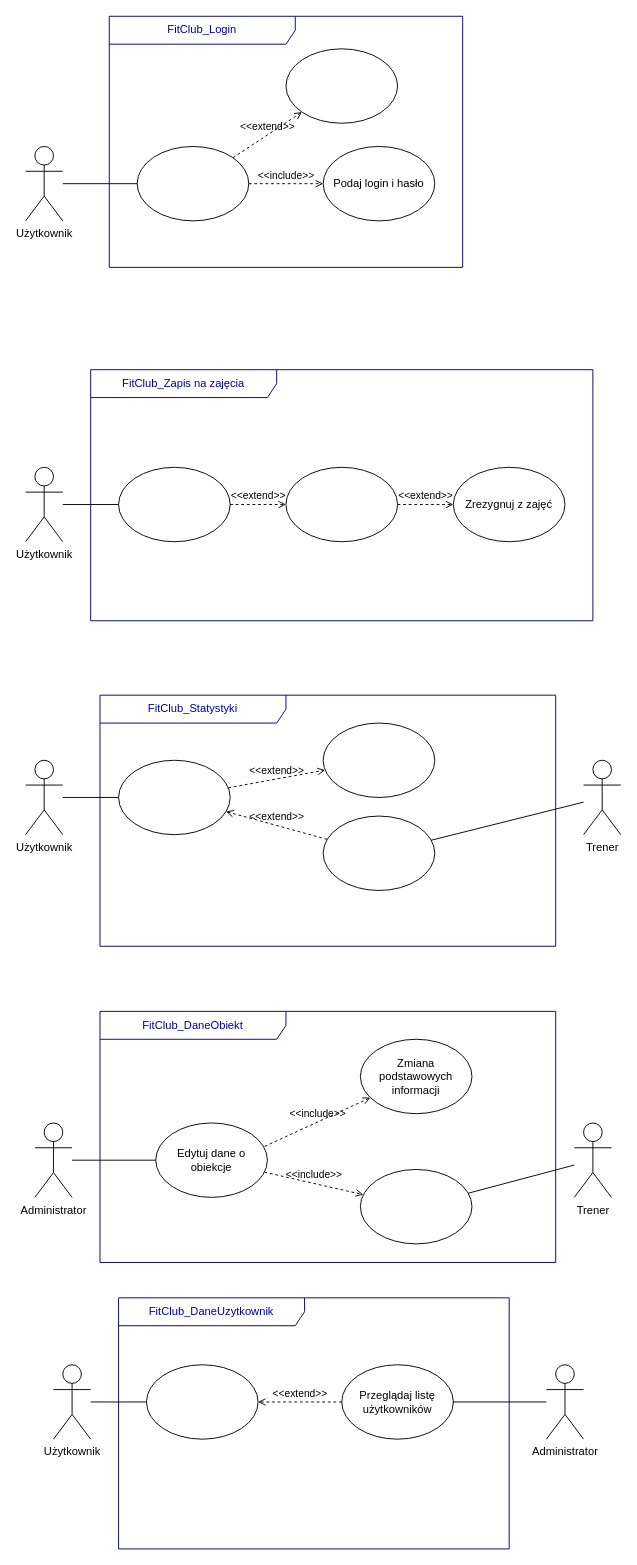
The diagram is 637 pixels wide and 1565 high, and some of its shapes have lost their labels. Each missing label, with the centre of its shape:
Dodaj komentarz, uwagi: [378,852]
Edycja oferowanych zajęć sportowych: [415,1206]
Edytuj dane profilu użytkownika: [202,1401]
Przeglądaj dostępne zajęcia: [174,504]
Przeglądaj statystyki: [174,797]
Wzięcie udziału w badaniu konsumenta: [378,759]
Zaloguj się: [192,183]
Zapisz się na zajęcia: [341,504]
Załóż konto: [341,85]
